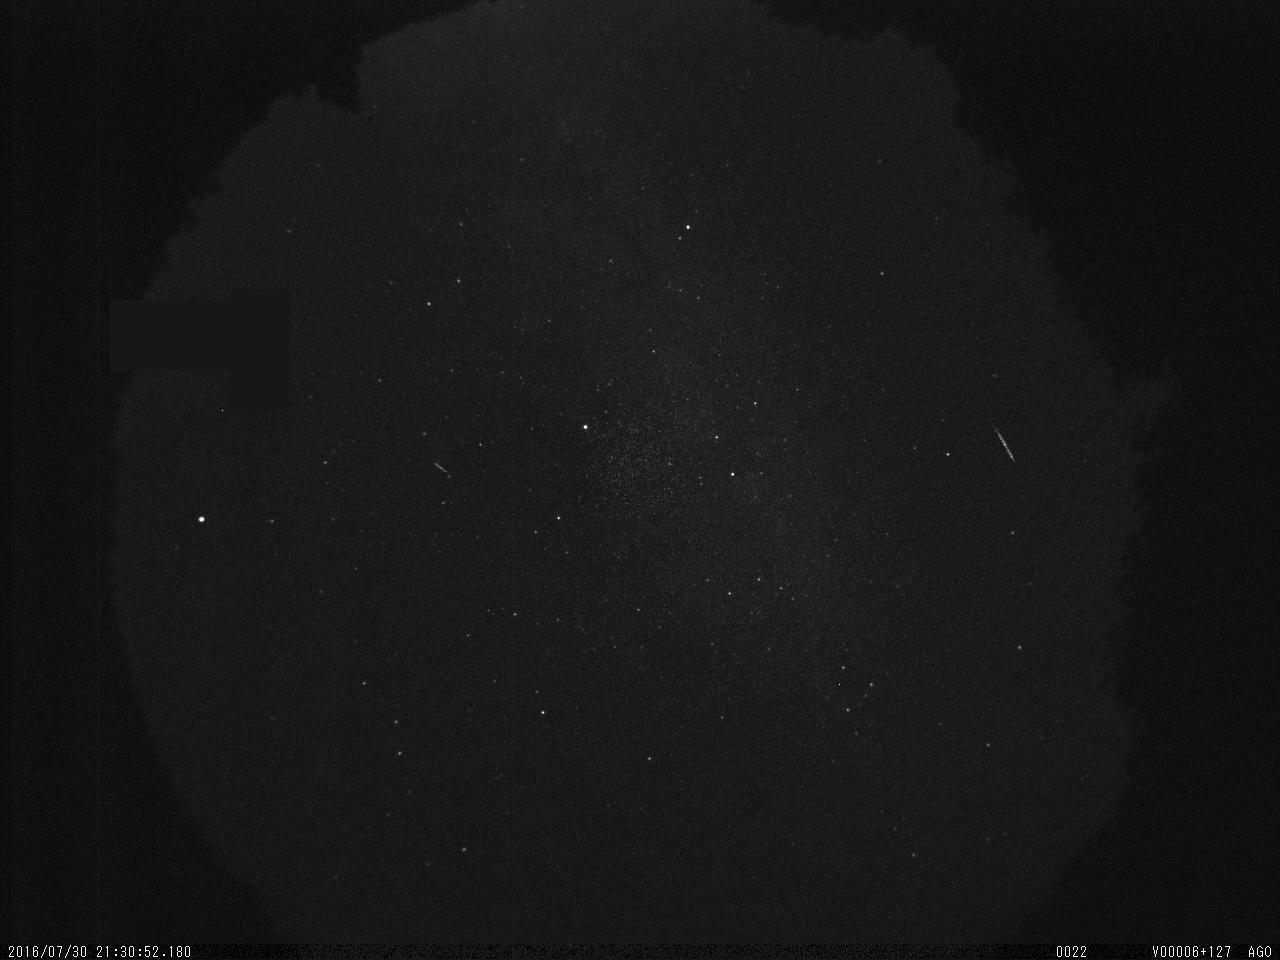meteor: (973, 406, 1028, 470), (430, 455, 453, 480)
